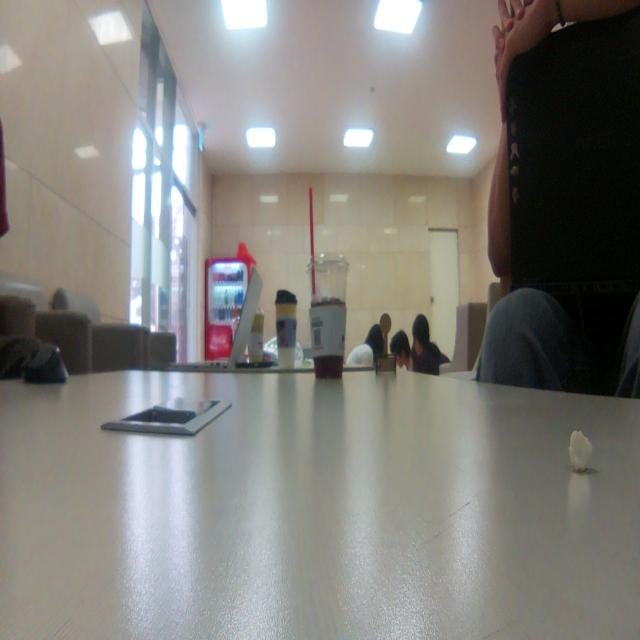target: (373, 312, 396, 376)
